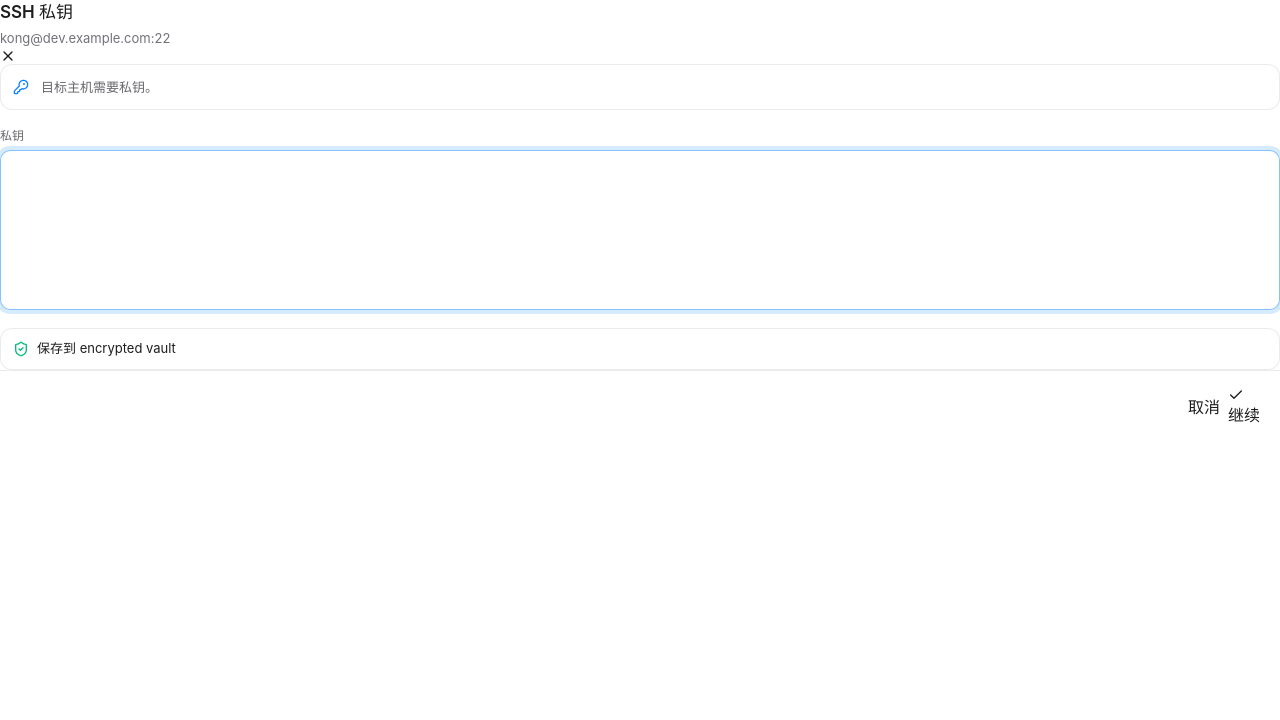
Test case: SshAuthPromptDialog › shows private key validation before submit
In the text box labelled "私钥": (640, 230) [0,150,1279,310], type "abc"
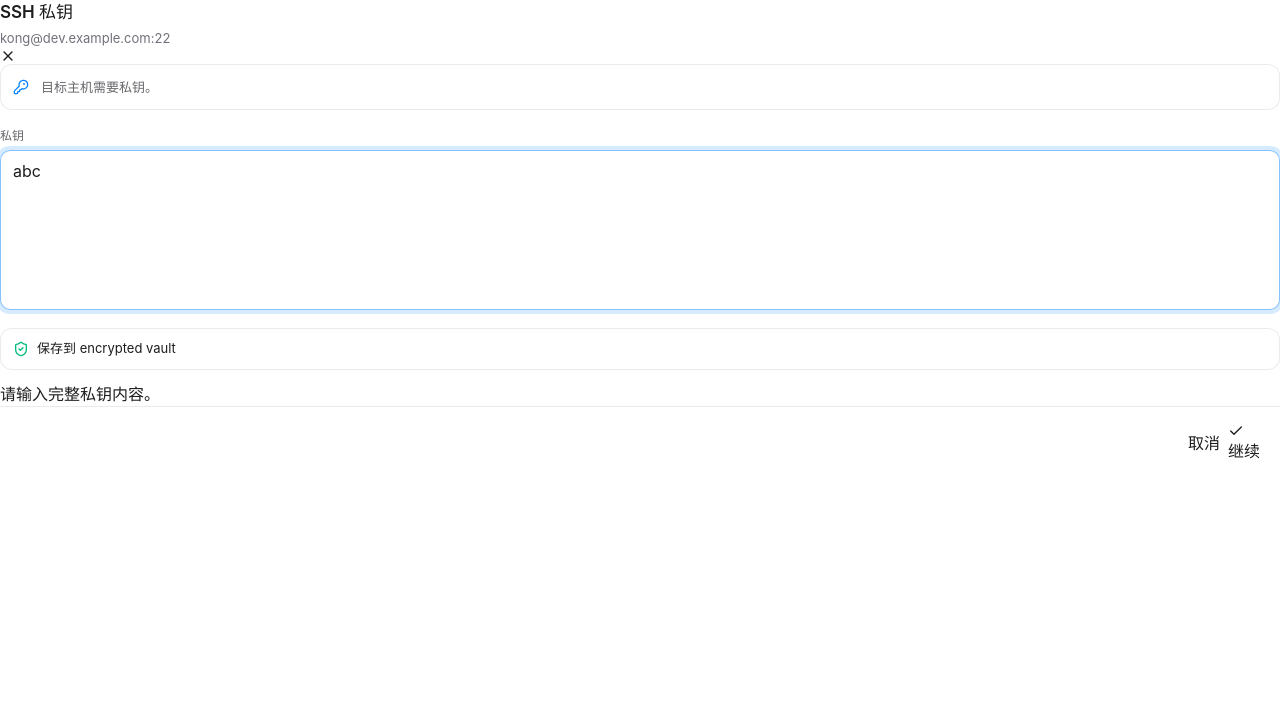
Expected: the button "继续" is disabled, [1228,422,1260,462]
Expected: the message reads "请输入完整私钥内容。", [0,384,160,404]
